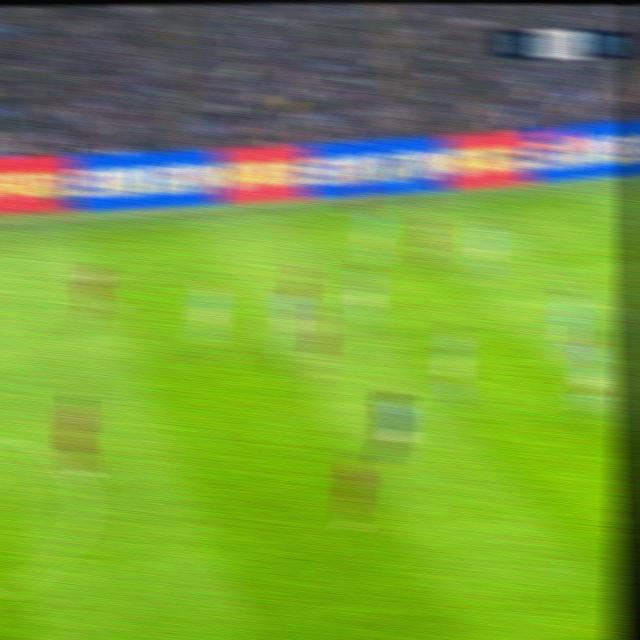bigarea_top_inner: (551, 257, 585, 285)
